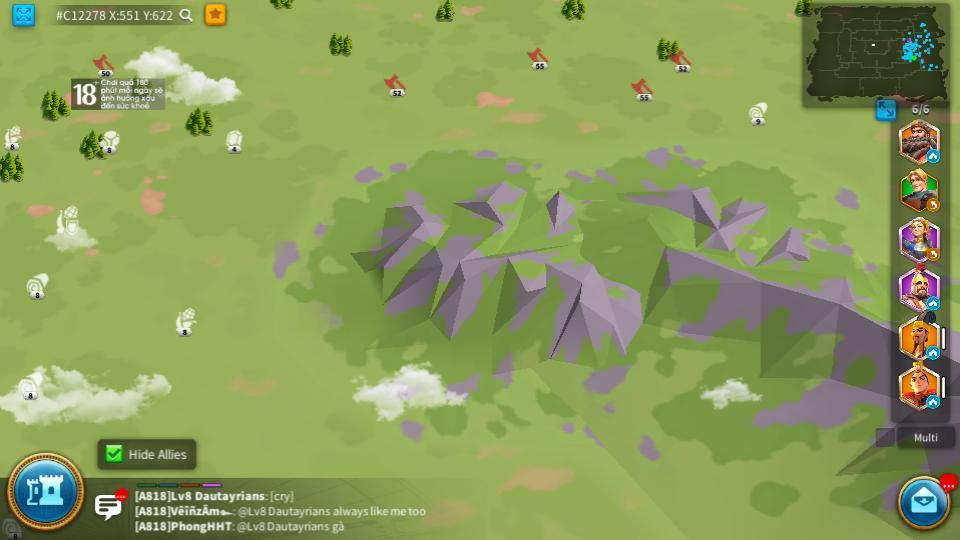gem-z-out: (222, 129, 245, 151)
march_idle: (926, 397, 941, 409), (927, 348, 940, 359), (927, 151, 940, 162), (925, 297, 938, 307)
march_returning: (927, 248, 941, 260), (927, 201, 941, 212)
